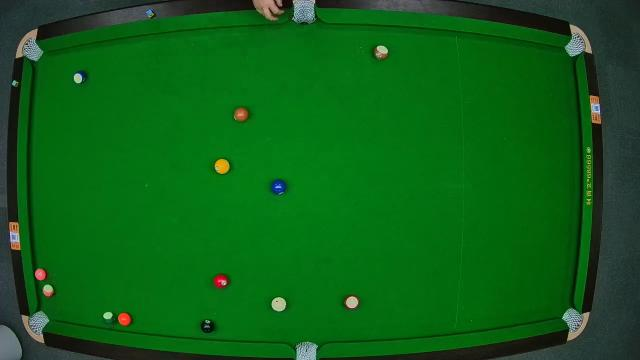bag1: (20, 40, 44, 62)
bag2: (292, 0, 318, 26)
bag3: (564, 33, 588, 58)
bag4: (28, 310, 48, 332)
bag5: (294, 339, 319, 360)
bag6: (562, 310, 584, 330)
ball0: (270, 296, 286, 312)
ball1: (214, 158, 230, 174)
ball10: (72, 70, 88, 84)
ball11: (344, 294, 361, 310)
ball12: (41, 284, 54, 298)
ball14: (104, 310, 116, 326)
ball15: (372, 44, 388, 60)
ball2: (270, 178, 288, 196)
ball3: (213, 274, 229, 288)
ball4: (34, 267, 46, 281)
ball5: (118, 312, 132, 326)
ball7: (232, 107, 248, 123)
ball8: (199, 318, 215, 334)
